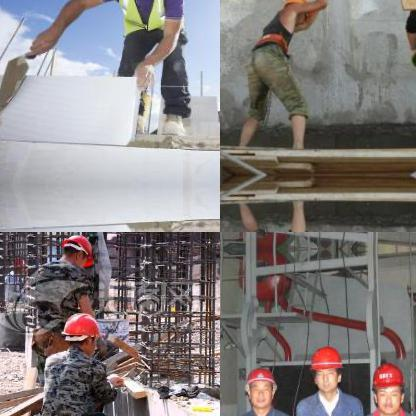Helmet: (56, 303, 102, 361), (307, 340, 345, 393), (370, 357, 404, 415), (241, 362, 279, 412), (51, 232, 97, 273), (283, 0, 308, 25)
